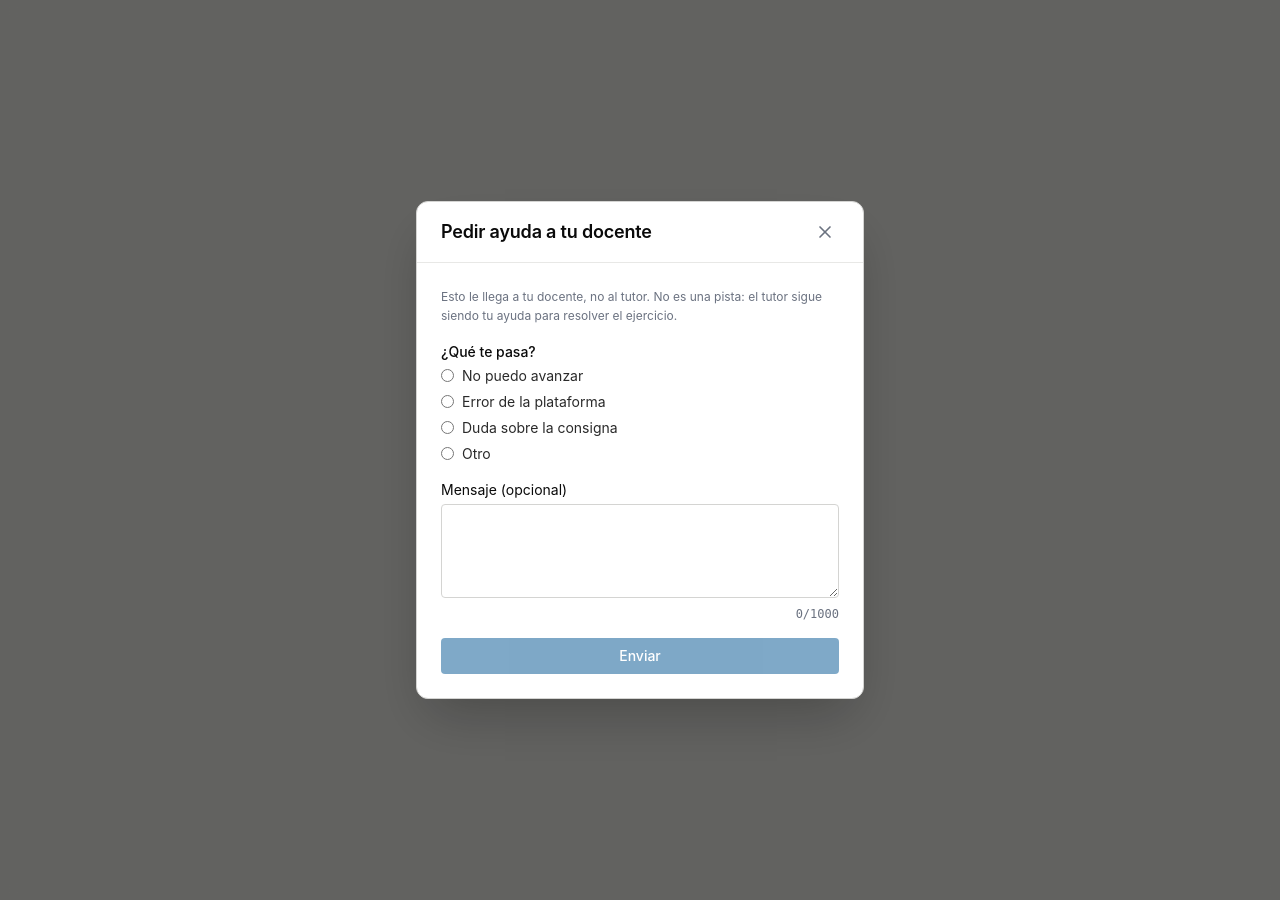
PedirAyudaModal › 429: muestra el motivo y NO da el pedido por enviado
Click the radio button labelled "No puedo avanzar".
click(448, 376)  # box left=441, top=369, right=454, bottom=382
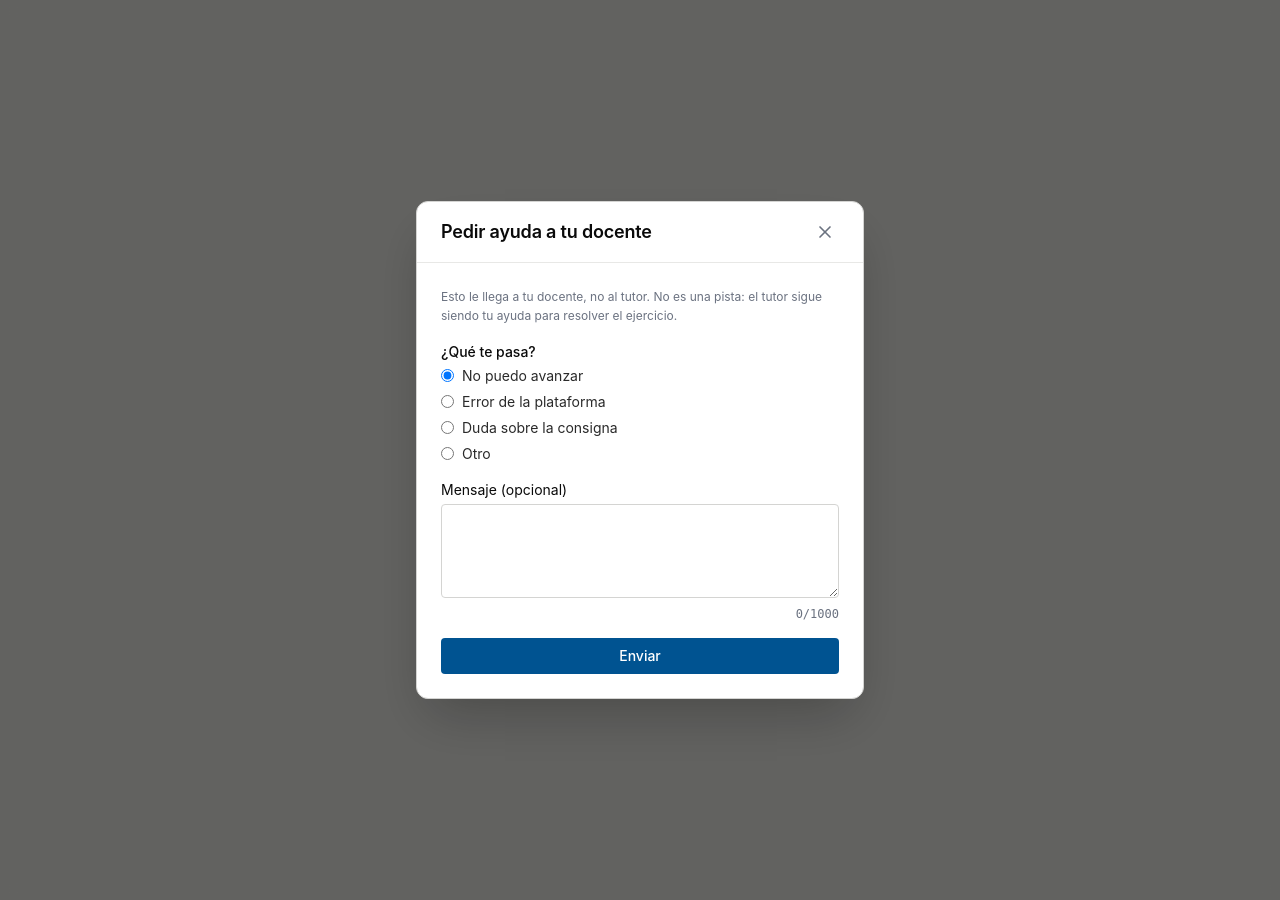
Click the button "Enviar".
click(640, 656)  # box left=441, top=638, right=839, bottom=674
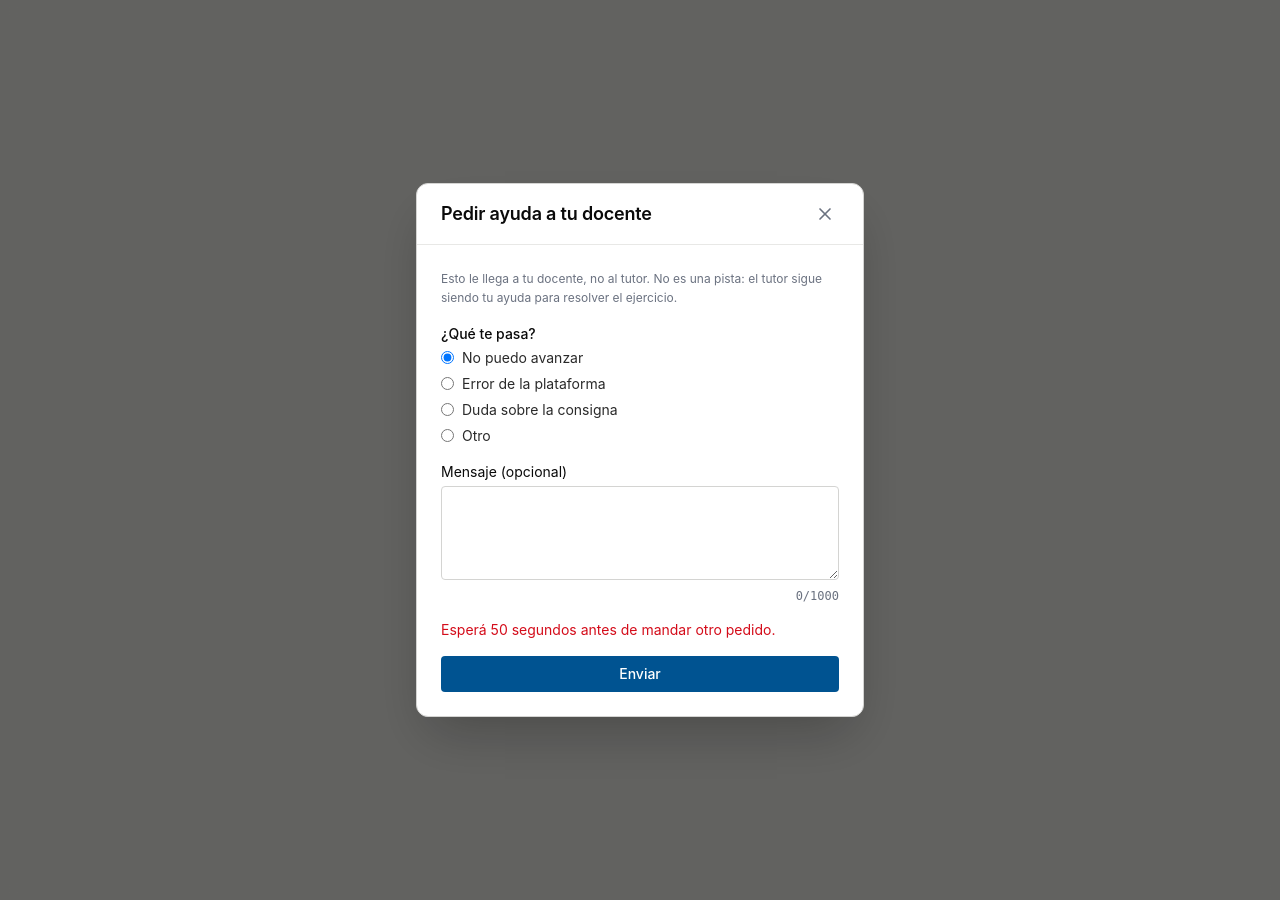
Now the text "Esperá 50 segundos antes de mandar otro pedido." is shown, box left=441, top=621, right=776, bottom=638
